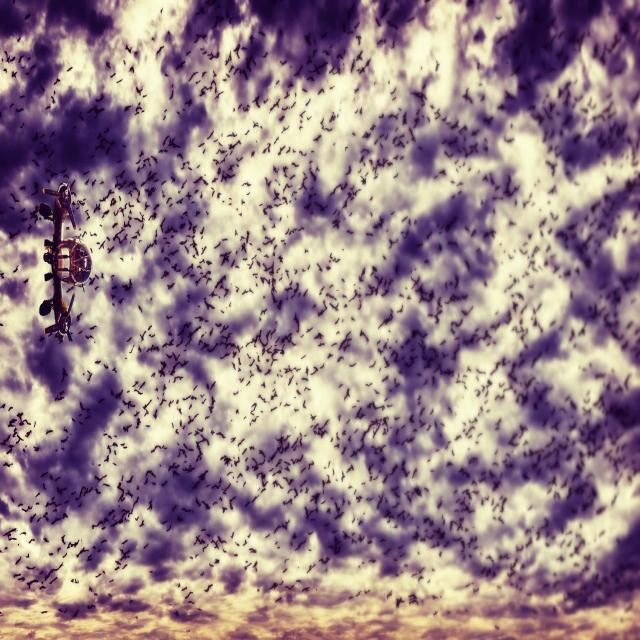airplane: (34, 179, 92, 344)
